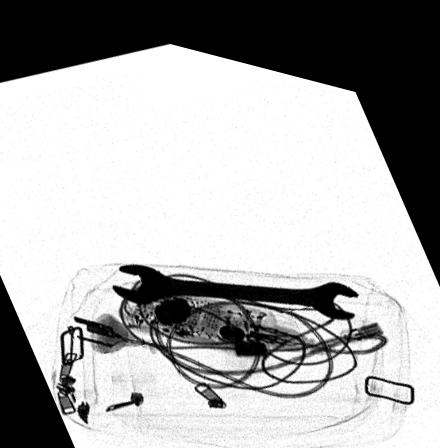Wrench: (261, 250, 390, 422)
